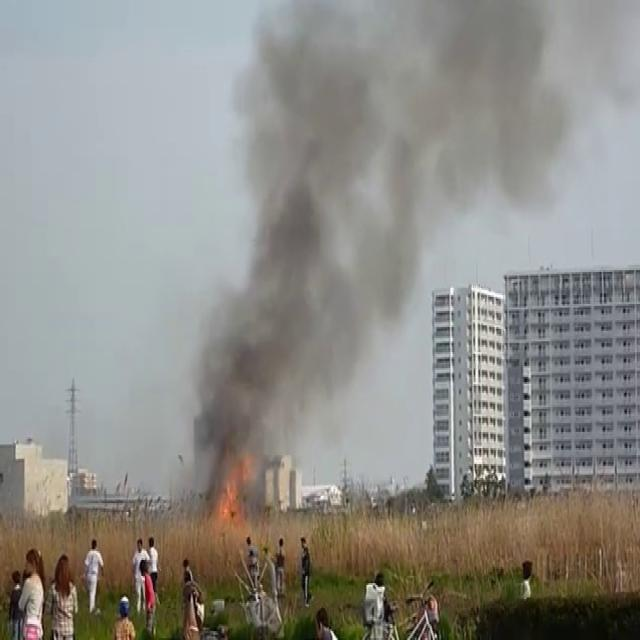Fire: (210, 452, 262, 530)
Smoke: (180, 0, 614, 501)
